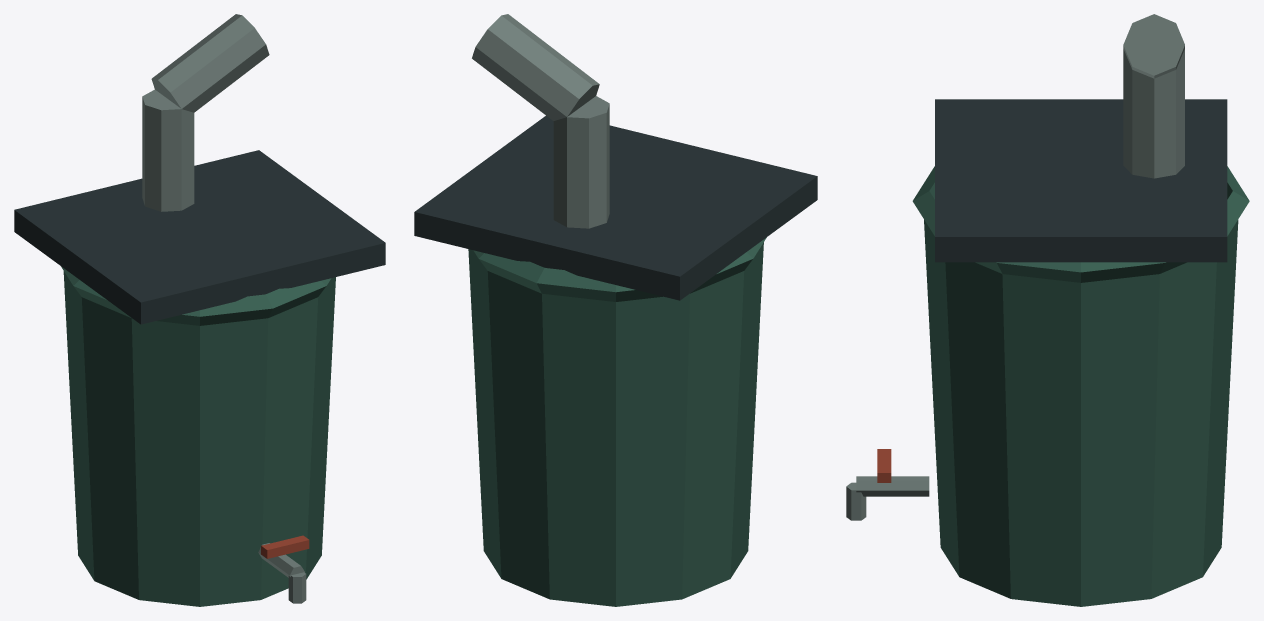
3 views of the same model, side by side, from view 1: azimuth 30°, elevation 25°; view 2: azimuth 150°, elevation 25°; view 3: azimuth 270°, elevation 25° (orthographic). The views are drawn at different scales.
Visible parts, largest first — view 1: a99; view 2: a99; view 3: a99.
Part boxes in pixels (x1=…): a99: x1=14, y1=14, x2=385, y2=606; a99: x1=414, y1=14, x2=817, y2=606; a99: x1=846, y1=14, x2=1249, y2=606.
Bounding box in the file's own units: 0.6 × 1.13 × 0.718.
